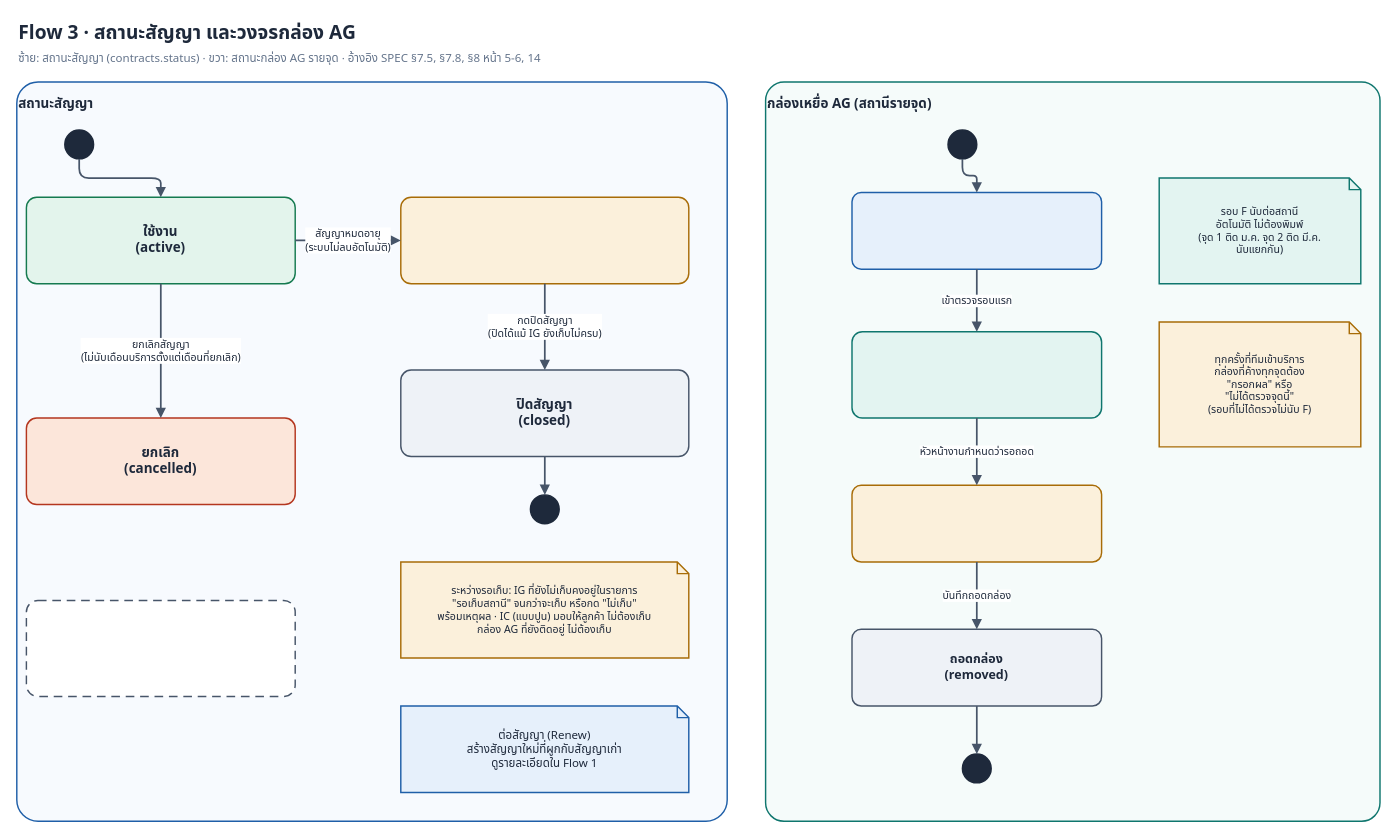
This 1398x838 diagram has some shape labels left out. Here are the shapes that lost their labels. From the top down, the centre of each, then its label:
At (544,240): "หมดสัญญา รอเก็บสถานี (expired_pending_collection)".
At (976,230): "ติดกล่องใหม่ (S) status: active".
At (976,374): "ติดตามผล F1 ... F10 status: active".
At (976,523): "รอถอด (pending_removal)".
At (160,648): "พักสัญญา (M29) ยังไม่ออกแบบ - ยังไม่มีเส้นทางเปลี่ยนสถานะ".
